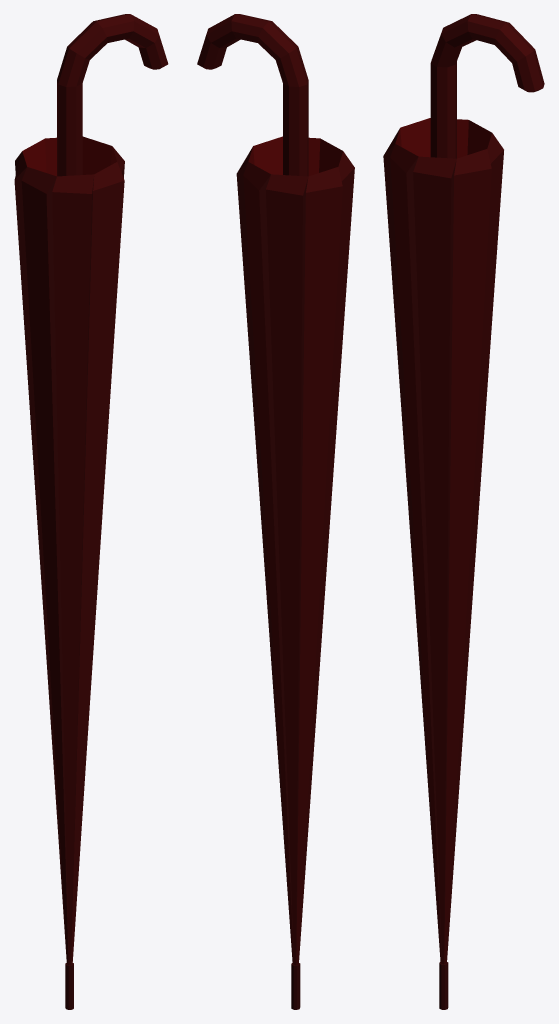
The model's file is Umbrella.002.glb.
3 renders of one model, left to right at view 1: azimuth 30°, elevation 25°; view 2: azimuth 150°, elevation 25°; view 3: azimuth 330°, elevation 25°, orthographic. The views are drawn at different scales.
Parts seen in each view (by area): view 1: Umbrella.002; view 2: Umbrella.002; view 3: Umbrella.002.
Part boxes in pixels (<box>): Umbrella.002: <box>14,14,168,1009</box>; Umbrella.002: <box>197,14,354,1009</box>; Umbrella.002: <box>383,14,544,1009</box>.
Bounding box in the file's own units: 0.8651 × 5.45 × 0.5956.
